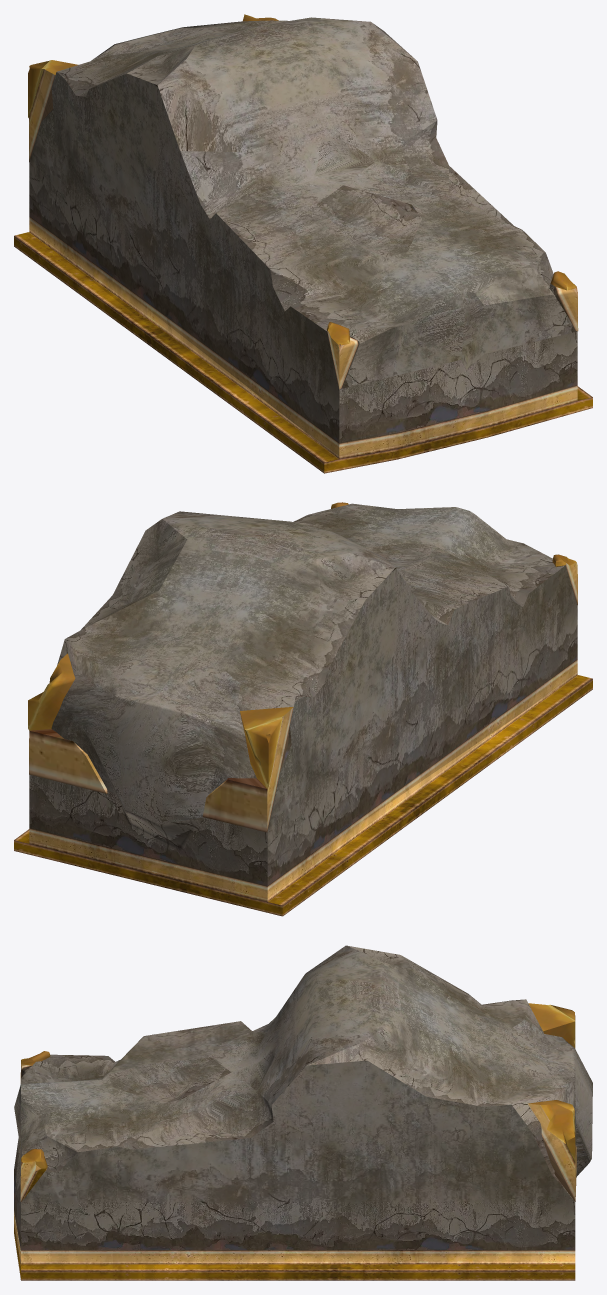
3 renders of one model, top to bottom at view 1: azimuth 30°, elevation 25°; view 2: azimuth 150°, elevation 25°; view 3: azimuth 270°, elevation 25°, orthographic. The views are drawn at different scales.
Parts seen in each view (by area): view 1: SM_DK_Crumbled_WallTop_03_LOD0; view 2: SM_DK_Crumbled_WallTop_03_LOD0; view 3: SM_DK_Crumbled_WallTop_03_LOD0.
Boxes of the visible parts, box(x1,y1,x2,y2) form: SM_DK_Crumbled_WallTop_03_LOD0: box(14, 14, 592, 473); SM_DK_Crumbled_WallTop_03_LOD0: box(14, 502, 592, 916); SM_DK_Crumbled_WallTop_03_LOD0: box(14, 945, 592, 1280).
Bounding box in the file's own units: 2 × 1.89 × 4.18.
Materials: 2 (2 with a texture image).
